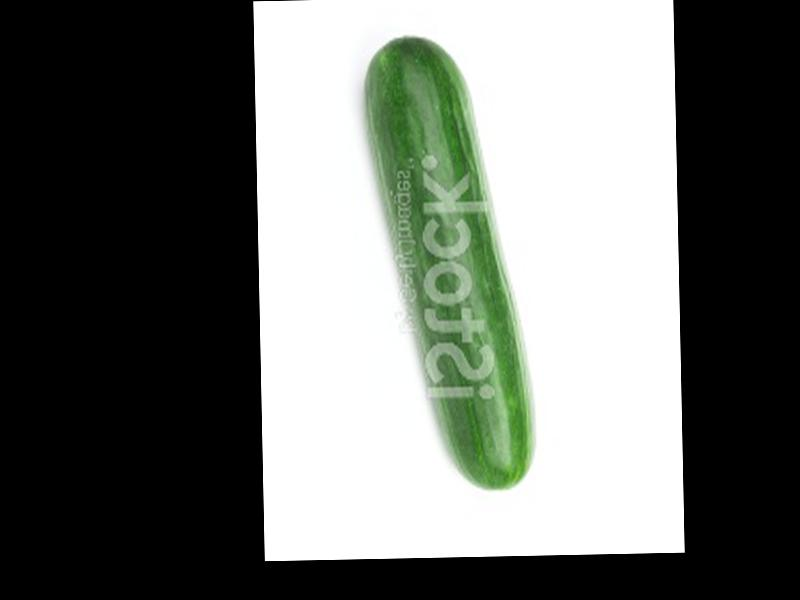Cucumber: (364, 32, 535, 494)
